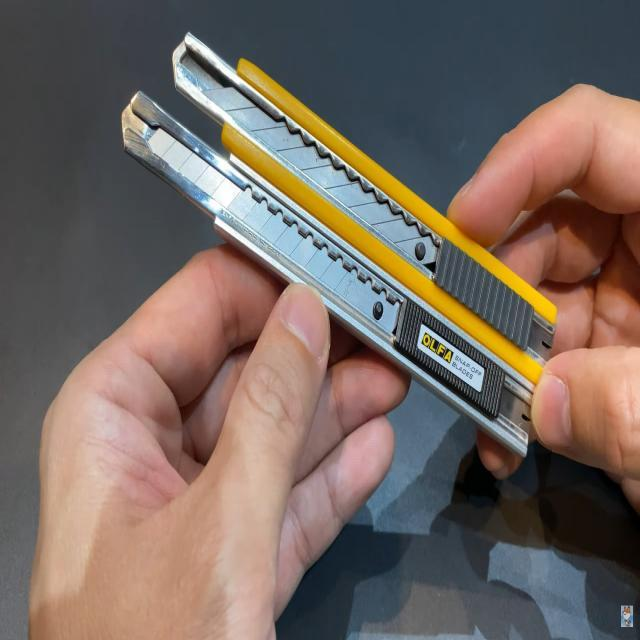cutter: (89, 1, 640, 626)
